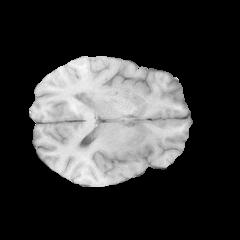glioma: (71, 79, 144, 121)
